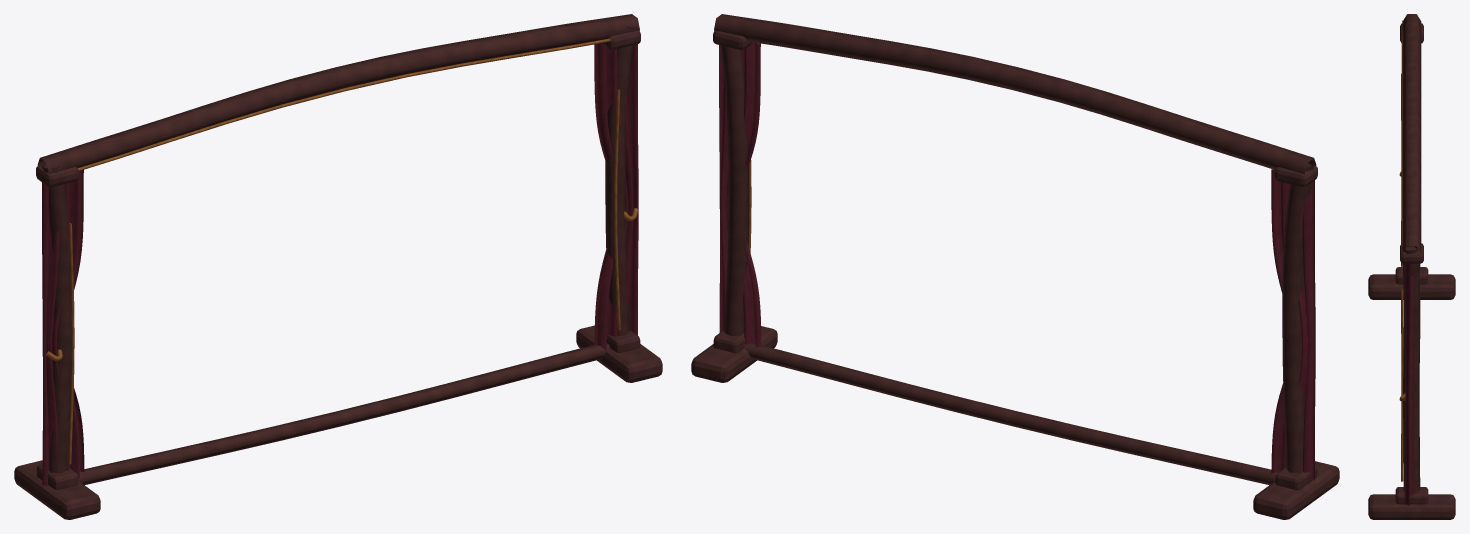
The model's file is night-screen-frame.glb.
3 renders of one model, left to right at view 1: azimuth 30°, elevation 25°; view 2: azimuth 150°, elevation 25°; view 3: azimuth 270°, elevation 25°, orthographic. The views are drawn at different scales.
Visible parts, largest first — view 1: Hand-planed mulberry timber, Brushed wine-red woven curtains, Worn ochre stitching; view 2: Hand-planed mulberry timber, Brushed wine-red woven curtains; view 3: Hand-planed mulberry timber, Brushed wine-red woven curtains, Worn ochre stitching.
Boxes of the visible parts, bbox=[...] form: Hand-planed mulberry timber: bbox=[14, 14, 662, 519]; Brushed wine-red woven curtains: bbox=[42, 43, 638, 485]; Worn ochre stitching: bbox=[46, 38, 638, 464]; Hand-planed mulberry timber: bbox=[691, 14, 1339, 519]; Brushed wine-red woven curtains: bbox=[719, 42, 1315, 481]; Hand-planed mulberry timber: bbox=[1368, 14, 1455, 519]; Brushed wine-red woven curtains: bbox=[1404, 260, 1414, 505]; Worn ochre stitching: bbox=[1399, 35, 1405, 481].
Bounding box in the file's own units: 10.58 × 6.1 × 1.66.
3 materials, 3 textured.
